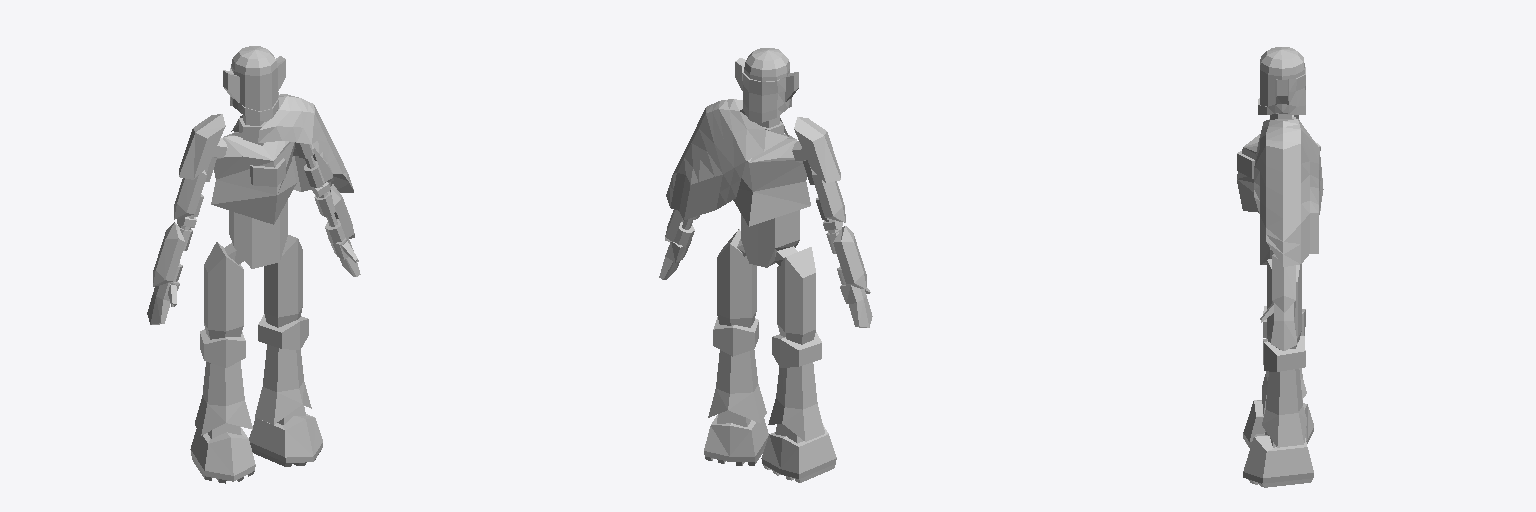
The model's file is Characteranimtest.obj.
The picture shows the model from 3 angles: view 1: azimuth 30°, elevation 25°; view 2: azimuth 150°, elevation 25°; view 3: azimuth 270°, elevation 25°; orthographic projection.
Visible parts, largest first — view 1: UpperTorso, Plane, Head, UpperRightLeg, LowerLeftLeg, LeftFoot, LowerRightLeg, UpperLeftLeg, LowerTorso, RightFoot, RightPauldron, LowerRightArmor (+8 smaller); view 2: Plane, UpperTorso, Head, UpperRightLeg, UpperLeftLeg, LowerRightLeg, LowerLeftLeg, RightFoot, LowerTorso, LeftFoot, RightPauldron, LowerRightArmor (+5 smaller); view 3: Plane, Head, LowerLeftLeg, LeftFoot, UpperTorso, LeftKnee, LowerLeftArmor, LeftHand, UpperLeftLeg, RightFoot.
Part boxes in pixels (x1,y1,x2,y2): UpperTorso: (211,132,296,224); Plane: (231,94,353,192); Head: (223,46,285,121); UpperRightLeg: (204,242,243,339); LowerLeftLeg: (255,344,311,424); LeftFoot: (249,414,322,466); LowerRightLeg: (195,361,252,435); UpperLeftLeg: (264,235,302,327); LowerTorso: (224,200,287,268); RightFoot: (190,427,255,483); RightPauldron: (179,114,225,179); LowerRightArmor: (153,222,185,286); Plane: (666,99,788,219); UpperTorso: (733,134,810,226); Head: (735,48,798,122); UpperRightLeg: (777,247,815,344); UpperLeftLeg: (717,229,756,327); LowerRightLeg: (768,362,824,441); LowerLeftLeg: (708,350,766,423); RightFoot: (761,425,836,482); LowerTorso: (737,210,799,267); LeftFoot: (704,415,768,465); RightPauldron: (794,117,840,182); LowerRightArmor: (833,226,866,289); Plane: (1254,118,1323,266); Head: (1258,47,1305,114); LowerLeftLeg: (1262,369,1306,447); LeftFoot: (1243,433,1313,487); UpperTorso: (1237,134,1320,212); LeftKnee: (1263,335,1305,371); LowerLeftArmor: (1272,254,1295,312); LeftHand: (1260,301,1297,350); UpperLeftLeg: (1267,259,1301,349); RightFoot: (1243,400,1313,447).
Size of the model in its own units: 3.4 by 6.46 by 1.24.